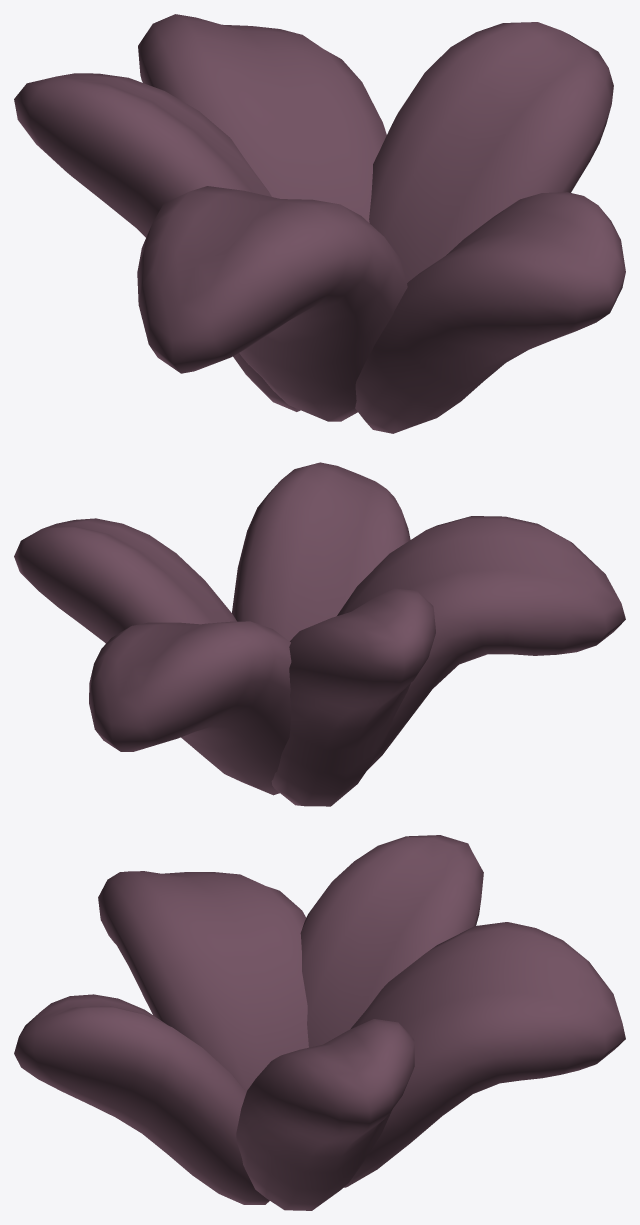
Rendered from Plant_B_02.fbx.
3 views of the same model, one above another, from view 1: azimuth 30°, elevation 25°; view 2: azimuth 150°, elevation 25°; view 3: azimuth 270°, elevation 25° (orthographic). The views are drawn at different scales.
Parts seen in each view (by area): view 1: Plant_B_02_LOD0; view 2: Plant_B_02_LOD0; view 3: Plant_B_02_LOD0.
Part boxes in pixels (box(x1,y1,x2,y2)): Plant_B_02_LOD0: box(14, 14, 625, 433); Plant_B_02_LOD0: box(14, 462, 625, 806); Plant_B_02_LOD0: box(14, 835, 625, 1210).
Size of what is drawn, in the model's own units: 529 by 286 by 576.
